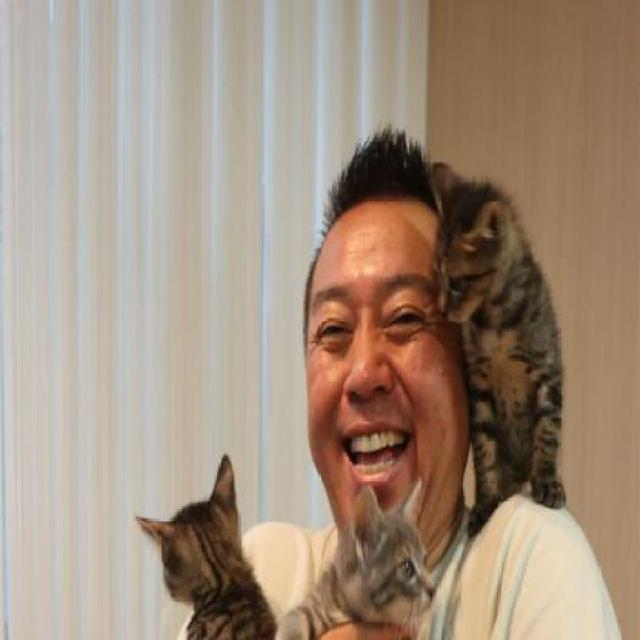cat: (434, 140, 574, 538), (126, 455, 280, 639), (275, 472, 439, 640)
